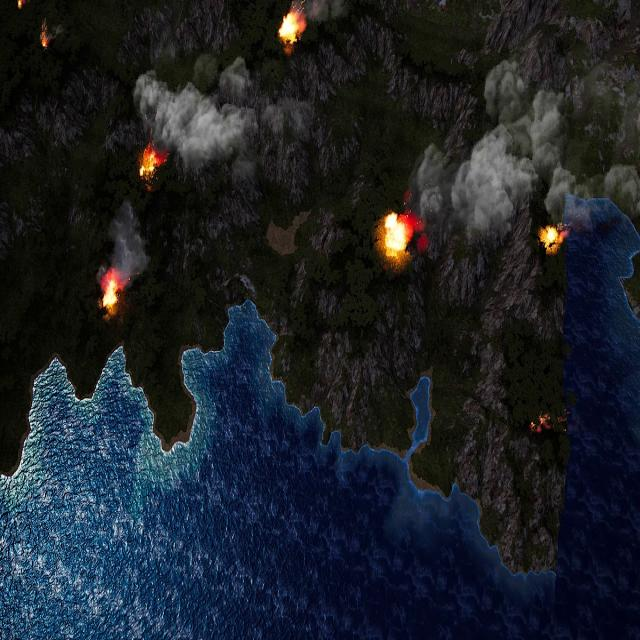fire: (382, 212, 411, 258), (278, 10, 305, 46), (138, 144, 164, 180), (100, 272, 122, 313), (540, 225, 563, 251), (530, 414, 550, 434), (39, 28, 49, 48), (18, 0, 24, 11)
smoke: (411, 56, 601, 232), (132, 55, 290, 179), (109, 201, 150, 277)
